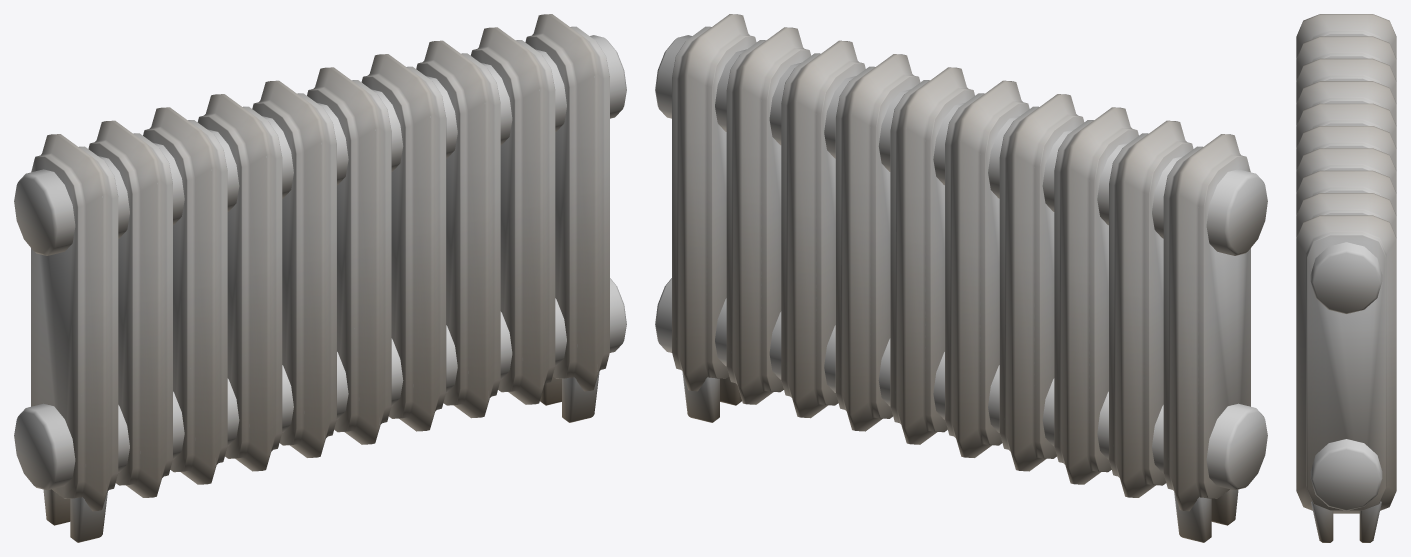
File: OldHeater.fbx
The picture shows the model from 3 angles, left to right: view 1: azimuth 30°, elevation 25°; view 2: azimuth 150°, elevation 25°; view 3: azimuth 270°, elevation 25°; orthographic projection. The views are drawn at different scales.
Parts seen in each view (by area): view 1: OldHeater; view 2: OldHeater; view 3: OldHeater.
Part boxes in pixels (left/top/right/bottom): OldHeater: left=14, top=14, right=626, bottom=542; OldHeater: left=655, top=14, right=1267, bottom=542; OldHeater: left=1296, top=14, right=1396, bottom=542.
Size of the model in its own units: 420 by 269 by 75.64.
